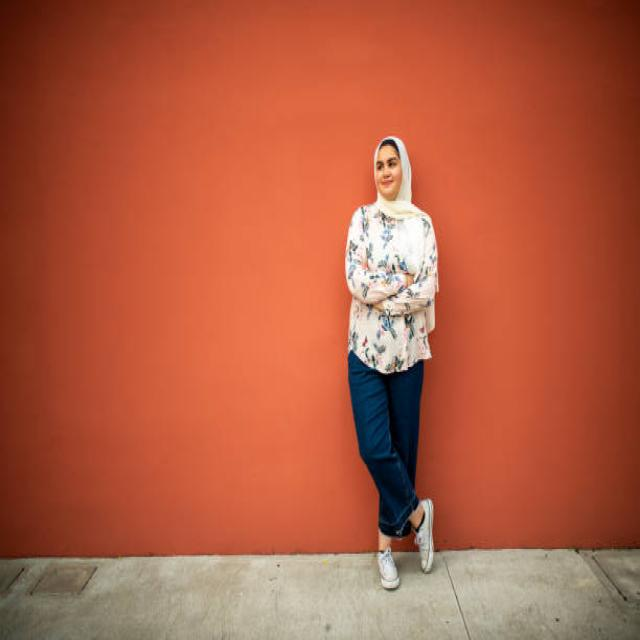Real human 2: (336, 124, 469, 610)
